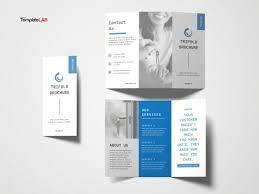paper: (106, 13, 206, 178), (43, 57, 78, 136)
